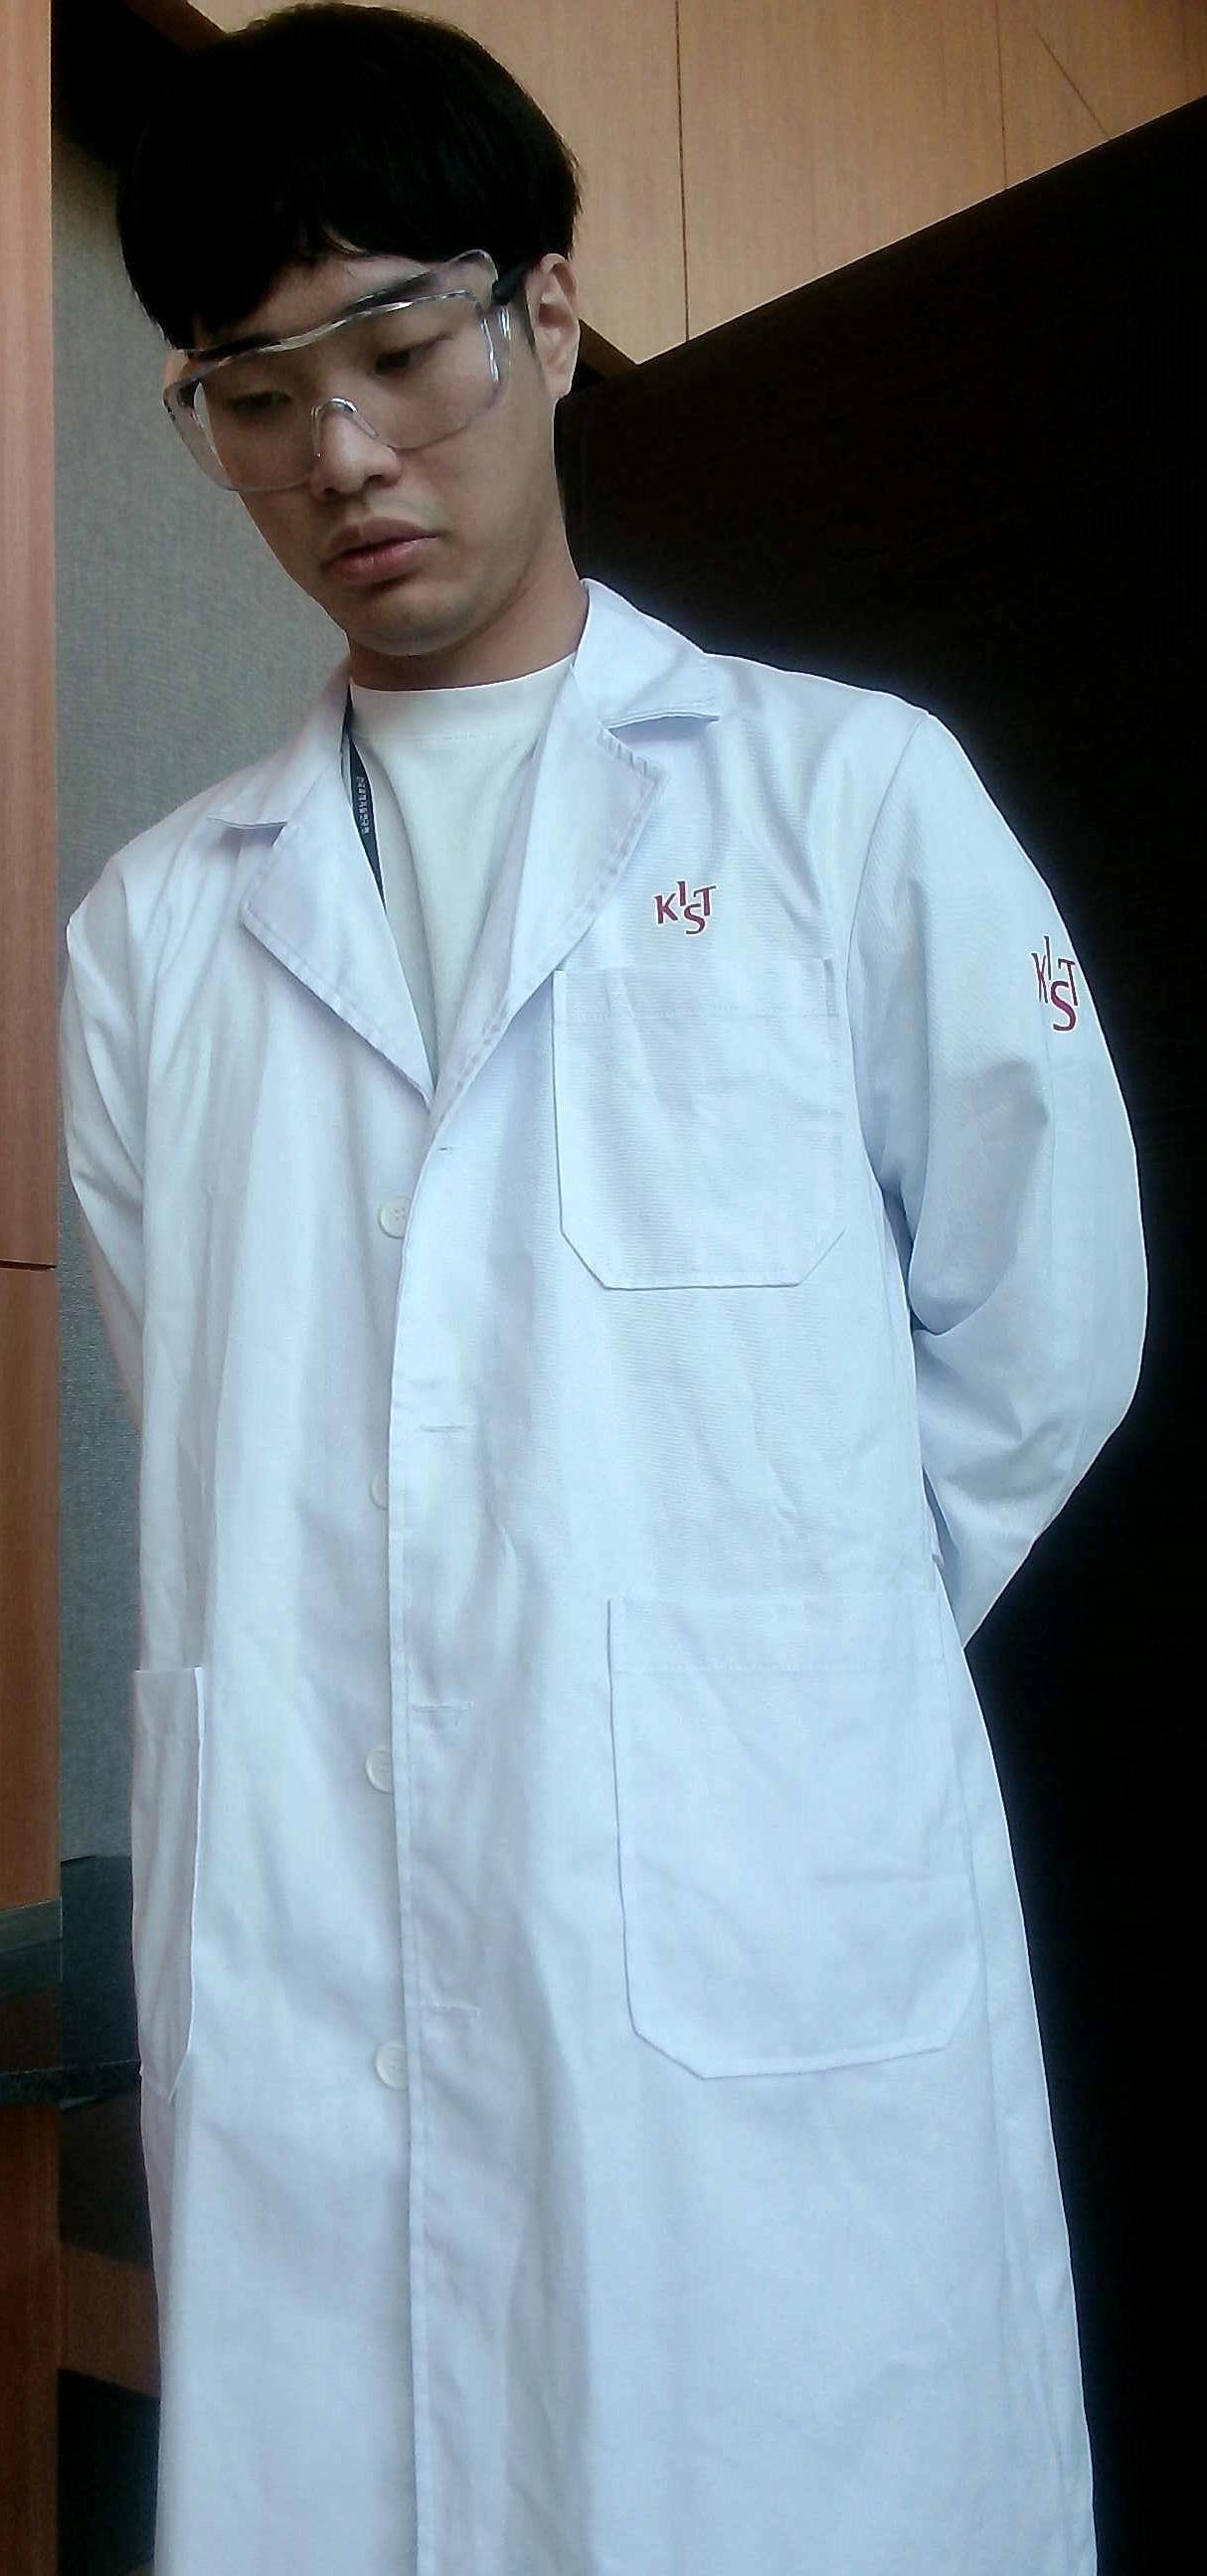lab_coat: (71, 731, 1125, 2576)
